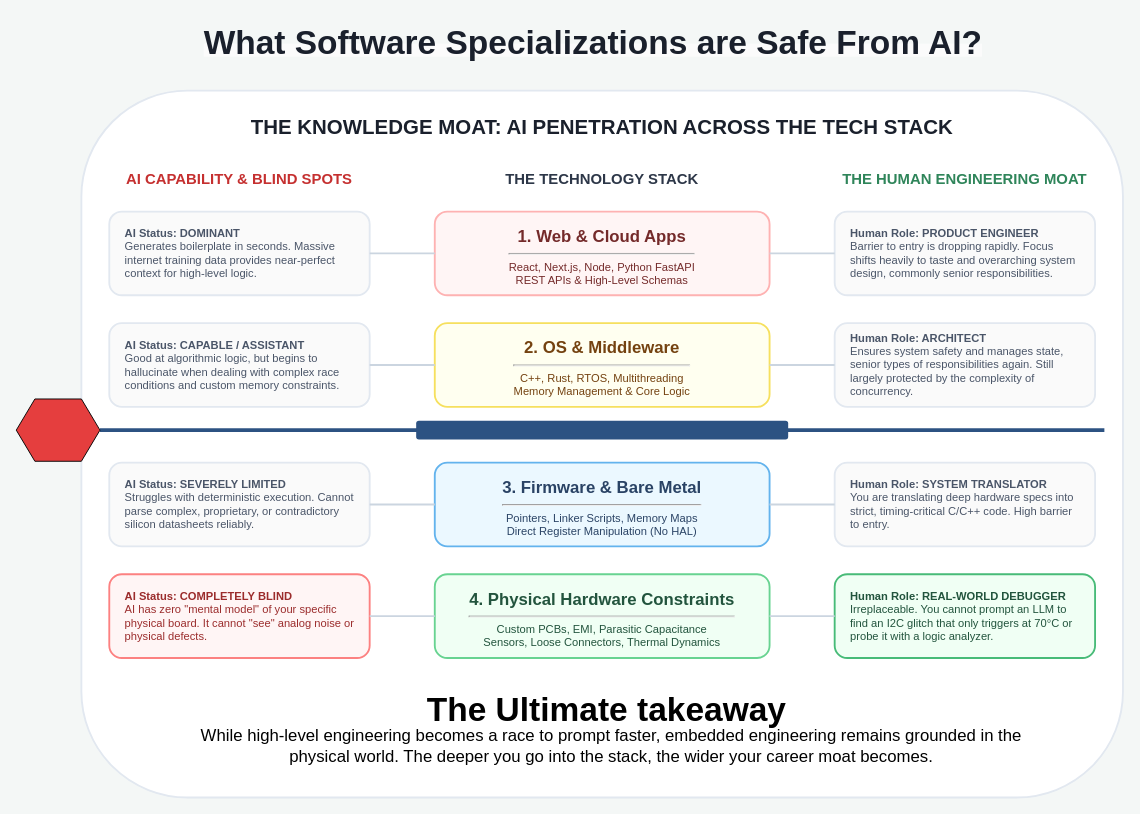
Some shapes in this 1140 by 814 pixel diagram are drawn without their labels. Each missing label, with the centre of its shape:
AI AUTOMATION REACH: point 85,308
BLOCKED BY PHYSICS: point 57,429
THE PHYSICS GAP (Where the "Knowledge Moat" Begins): point 602,429
